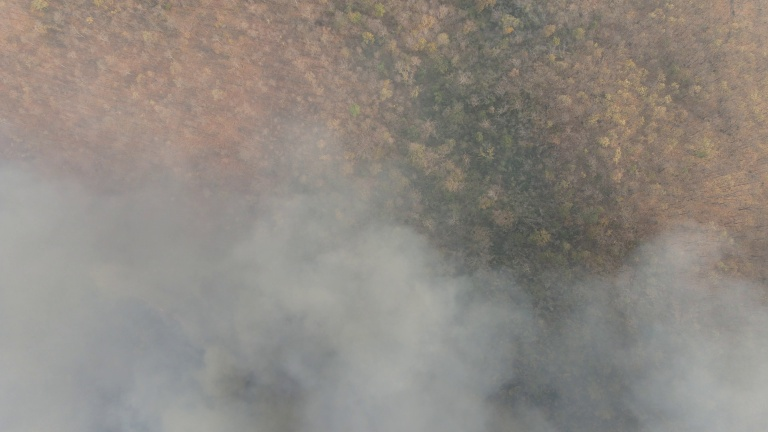smoke: (1, 177, 484, 432), (609, 228, 768, 432)
